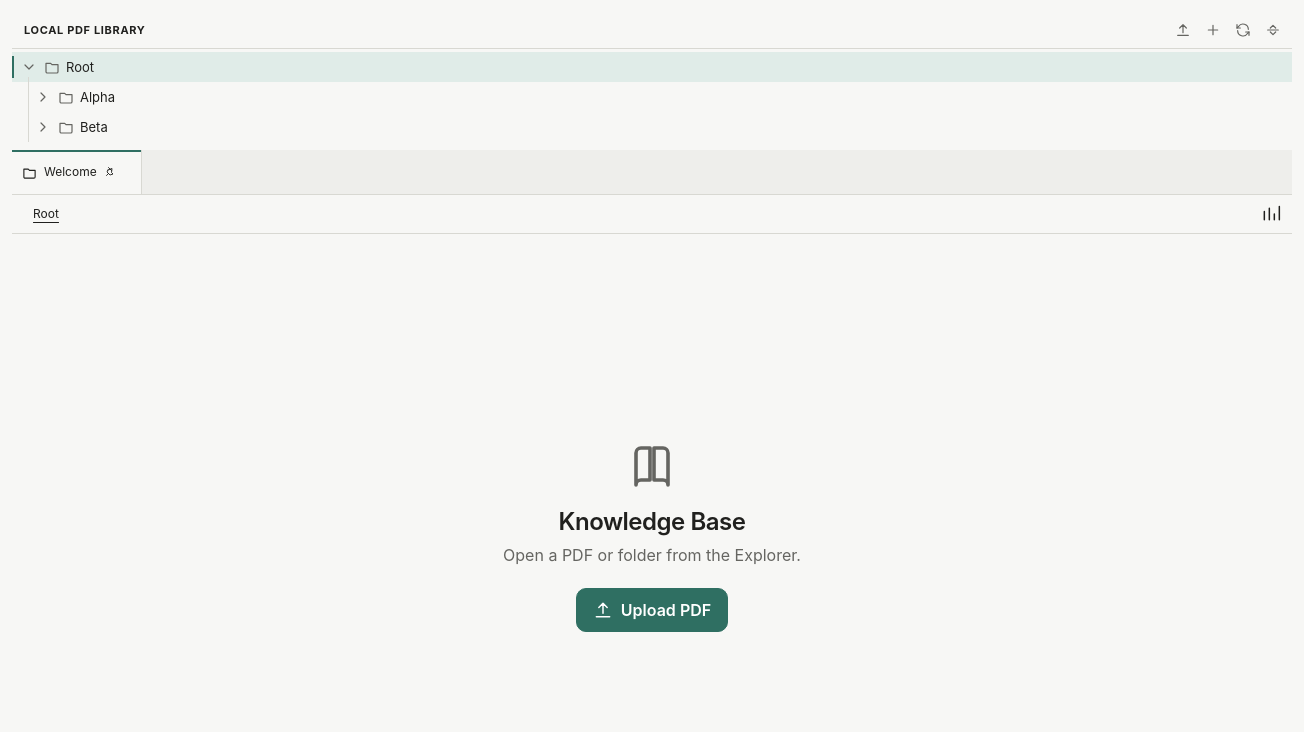
Test: knowledge base workspace › shows vertical ancestry guides beneath expanded folders
Click the button named "Expand Alpha". click: (43, 97)
box: [28,82,58,112]
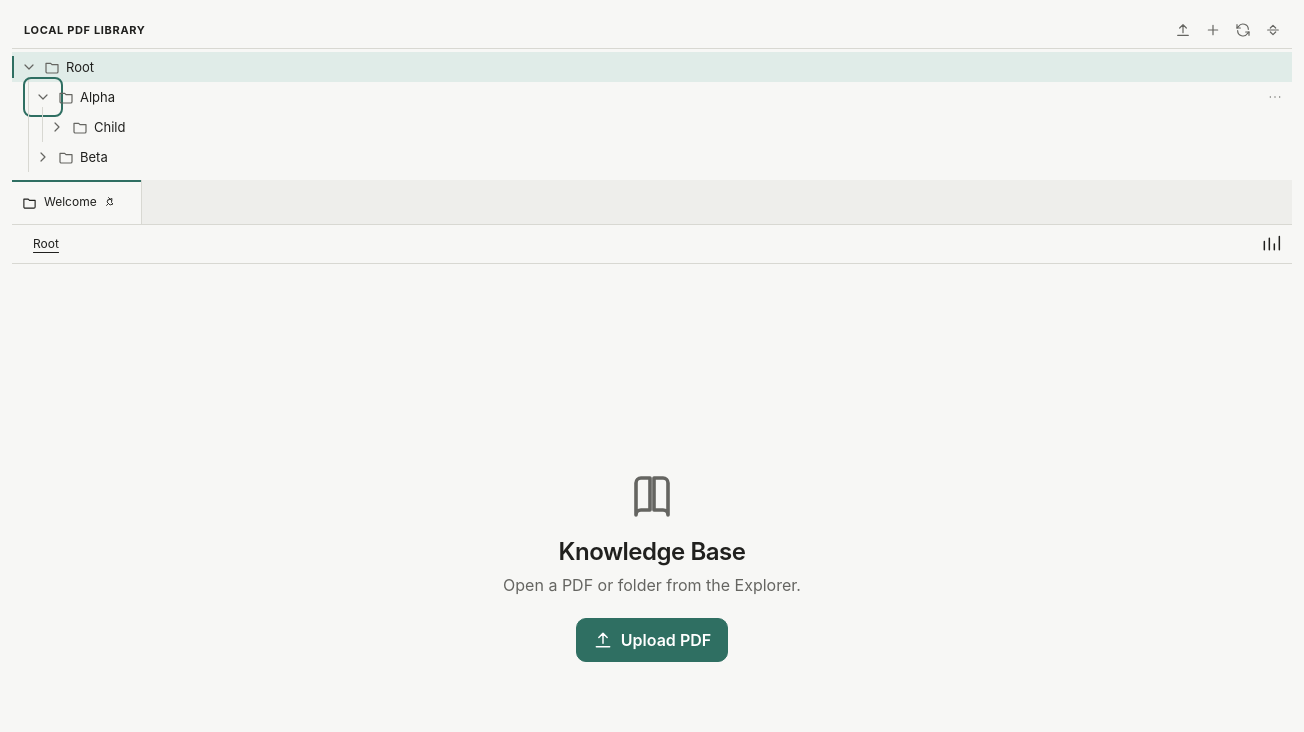
Expected: the list item "Alpha" has attribute data-expanded-children="true", [12,82,1292,112]
Click the button named "Collapse Alpha". click: (43, 97)
box: [28,82,58,112]
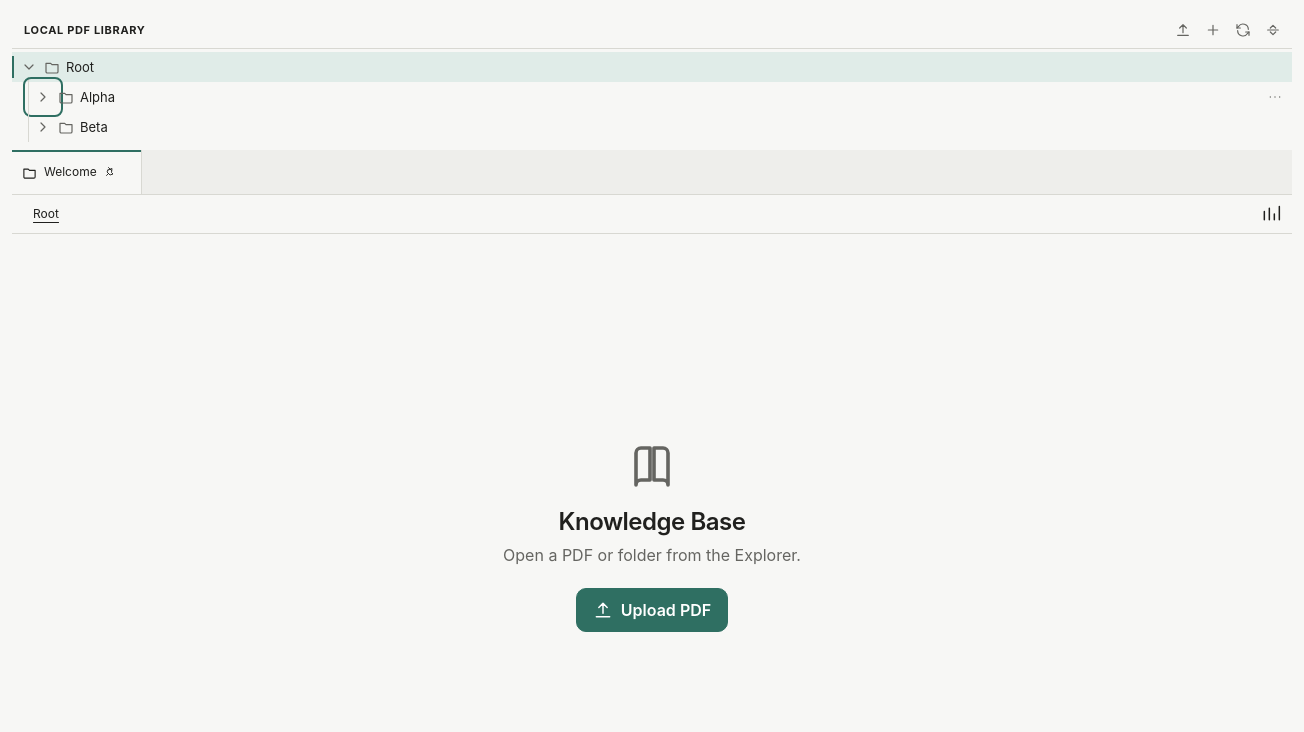
Expected: the button "Child" is gone
